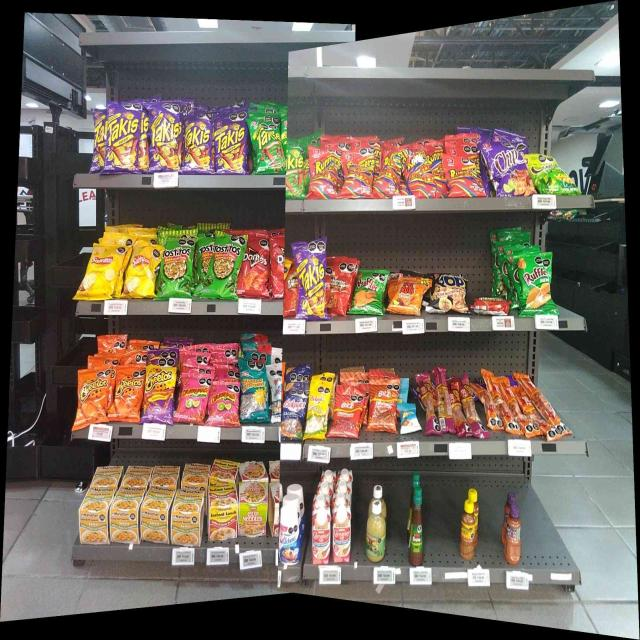bitzAlmendras: (398, 403, 420, 432)
bitzEnchilado90: (368, 381, 396, 431), (330, 399, 364, 439)
bitzEnchilado95: (481, 374, 562, 436)
bitzHabanero: (424, 373, 471, 432)
bokadosCacahuates: (284, 384, 306, 440)
botaneraChilito: (462, 500, 474, 559)
cheetosFlaminHot: (146, 360, 174, 424)
cheetosOriginal: (76, 371, 108, 423), (112, 368, 139, 423)
chipsFuego: (482, 144, 526, 196)
chipsPapatinas: (528, 153, 571, 193)
churrumais: (178, 373, 205, 422), (209, 382, 238, 426)
delPrimoSalsa: (365, 500, 385, 563)
doritosNacho: (242, 243, 269, 297)
hotNutsOriginal: (390, 272, 424, 316)
leoCacahuates: (269, 366, 282, 424)
maruchanPollo: (172, 487, 202, 547), (80, 488, 110, 545), (112, 487, 140, 542), (143, 486, 168, 545)
maruchanRes: (207, 482, 236, 541)
nestleCarnation: (333, 507, 350, 562), (312, 512, 330, 563)
nestleLechera: (280, 506, 301, 564)
nissinCamaron: (240, 482, 268, 537)
popKarameladas: (429, 272, 467, 317)
rancheritos: (328, 257, 350, 315), (282, 269, 298, 315)
rufflesQueso: (518, 259, 550, 312), (354, 268, 383, 314)
runners: (310, 146, 340, 199), (441, 155, 479, 195), (341, 153, 374, 197), (406, 152, 435, 198), (377, 154, 402, 197)
sabritasOriginal: (82, 247, 124, 300), (126, 244, 154, 298)
salsaBufalo: (408, 488, 424, 564)
semillasCalabaza: (308, 384, 328, 439)
semillasGirasol: (240, 361, 267, 421)
tajinDulce: (506, 504, 520, 564)
takisFuego: (151, 102, 183, 171), (108, 102, 137, 173), (301, 242, 326, 318), (216, 118, 246, 174), (185, 118, 214, 173), (92, 108, 104, 172), (139, 112, 150, 172)
takisOriginal: (248, 118, 286, 174), (287, 148, 307, 198)
tostitos: (158, 232, 191, 298), (213, 234, 237, 300), (195, 237, 211, 271)
